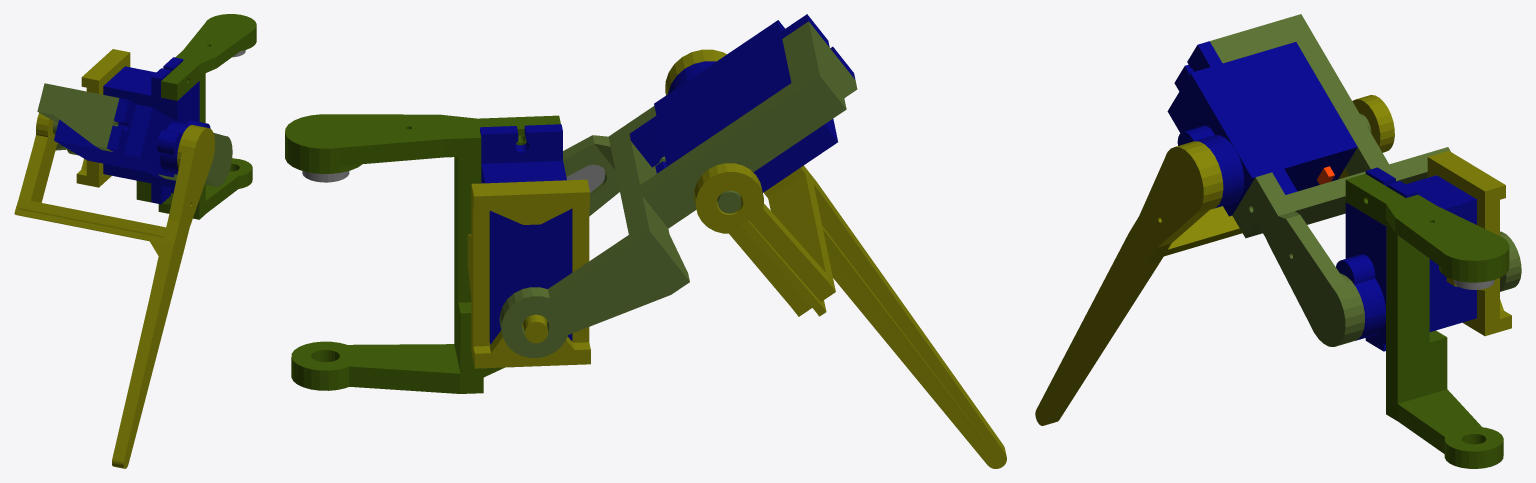
The model's file is front-right-leg-whole.glb.
The picture shows the model from 3 angles, left to right: view 1: azimuth 30°, elevation 25°; view 2: azimuth 150°, elevation 25°; view 3: azimuth 270°, elevation 25°; orthographic projection. The views are drawn at different scales.
Parts seen in each view (by area): view 1: object 2, 9g Servo (×2), object 6, object 8, object 5; view 2: object 8, 9g Servo (×2), object 2, object 6, object 5; view 3: 9g Servo (×2), object 6, object 8, object 2, object 5.
Part boxes in pixels (x1=…): object 2: x1=14, y1=113, x2=214, y2=468; 9g Servo (×2): x1=54, y1=57, x2=210, y2=204; object 6: x1=136, y1=14, x2=256, y2=219; object 8: x1=34, y1=83, x2=232, y2=186; object 5: x1=76, y1=49, x2=130, y2=187; object 8: x1=499, y1=21, x2=857, y2=357; 9g Servo (×2): x1=480, y1=14, x2=855, y2=344; object 2: x1=665, y1=49, x2=1006, y2=468; object 6: x1=285, y1=114, x2=560, y2=393; object 5: x1=467, y1=179, x2=590, y2=368; 9g Servo (×2): x1=1167, y1=41, x2=1476, y2=351; object 6: x1=1345, y1=174, x2=1509, y2=468; object 8: x1=1210, y1=14, x2=1521, y2=346; object 2: x1=1035, y1=95, x2=1394, y2=425; object 5: x1=1427, y1=150, x2=1511, y2=336.
Size of the model in its own units: 0.0801 by 0.0798 by 0.0836.
